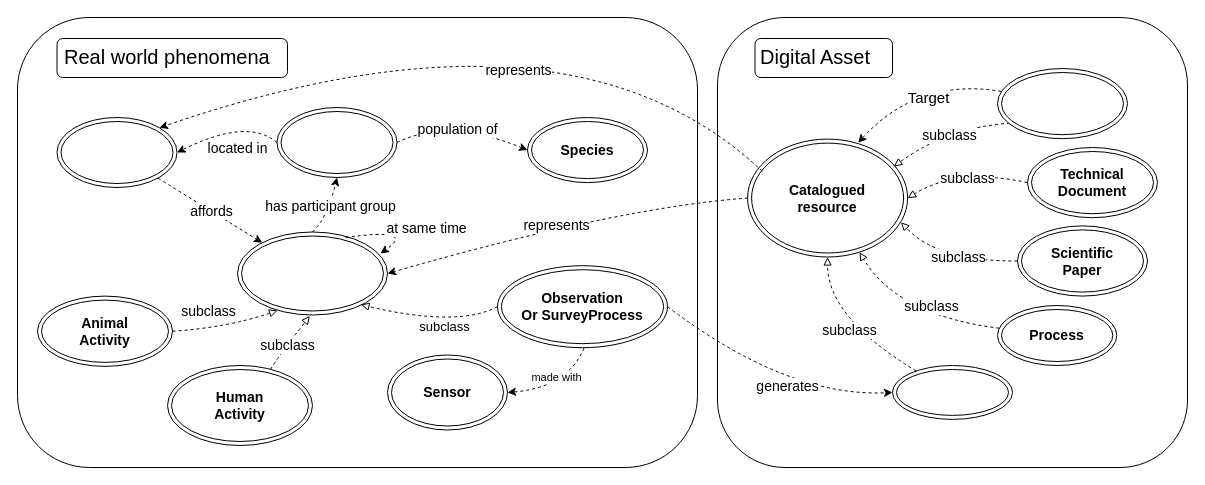
Image size: 1205x485. Some labels were removed from this diagram. Here are the shapes that lost their labels. From the top down, the centre of each, then its label:
point 1062,103: User Feedback
point 116,152: LandEntity
point 336,142: Population
point 312,273: Activity
point 952,391: Dataset
